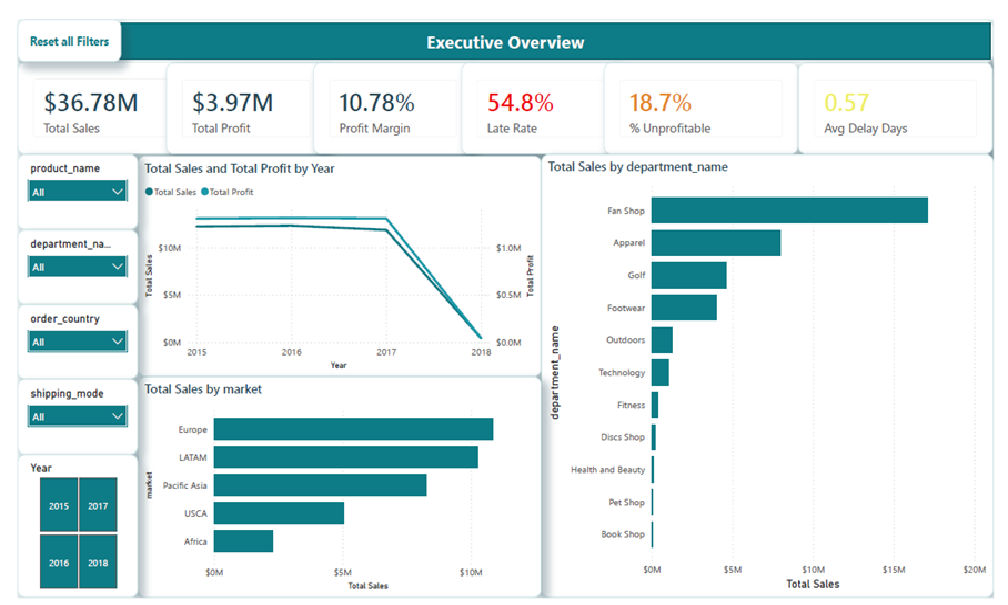

The page's visual inventory and layout, read from the dashboard file:
{"tool":"powerbi","page":{"name":"OverView","canvas":[1280,720],"ordinal":0},"visuals":[{"type":"shape","box":[0,0,1280,54],"z":0},{"type":"cardVisual","fields":{"Data":["fact_order_line.Total Sales","fact_order_line.Total Profit","fact_order_line.Total Orders"]},"box":[0,53.3,1278.3,115],"z":1000},{"type":"cardVisual","fields":{"Data":["fact_order_line.Total Profit"]},"box":[195.3,54,209.2,113.6],"z":2000},{"type":"cardVisual","fields":{"Data":["fact_order_line.Profit Margin"]},"box":[387.9,54,209.2,113.6],"z":3000},{"type":"cardVisual","fields":{"Data":["fact_order_line.Late Rate"]},"box":[581.8,54,209.2,113.6],"z":4000},{"type":"cardVisual","fields":{"Data":["fact_order_line.% Unprofitable"]},"box":[768.8,54,254.9,113.6],"z":5000},{"type":"cardVisual","fields":{"Data":["fact_order_line.Avg Delay Days"]},"box":[1023.7,54,254.9,113.6],"z":6000},{"type":"lineChart","fields":{"Y":["fact_order_line.Total Sales"],"Y2":["fact_order_line.Total Profit"],"Category":["dim_date.full_date.Variation.Date Hierarchy.Year","dim_date.full_date.Variation.Date Hierarchy.Quarter","dim_date.full_date.Variation.Date Hierarchy.Month","dim_date.full_date.Variation.Date Hierarchy.Day"]},"box":[158.3,170,528.3,275],"z":7000},{"type":"clusteredBarChart","fields":{"Y":["fact_order_line.Total Sales"],"Category":["dim_product.department_name"]},"box":[686.7,168.3,593.3,551.7],"z":8000},{"type":"barChart","fields":{"Category":["dim_geo.market"],"Y":["fact_order_line.Total Sales"]},"box":[158.3,445,528.3,275],"z":9000},{"type":"slicer","fields":{"Values":["dim_product.product_name"]},"box":[0,168.3,158.3,93.3],"z":10001},{"type":"slicer","fields":{"Values":["dim_product.department_name"]},"box":[0,261.7,158.3,93.3],"z":10002},{"type":"slicer","fields":{"Values":["dim_geo.order_country"]},"box":[0,355,158.3,93.3],"z":10003},{"type":"slicer","fields":{"Values":["dim_shipping_mode.shipping_mode"]},"box":[0,448.3,158.3,93.3],"z":10004},{"type":"slicer","fields":{"Values":["dim_date.full_date.Variation.Date Hierarchy.Year"]},"box":[0,541.7,158.3,178.3],"z":10005},{"type":"actionButton","box":[0,0,116.7,53.3],"z":10006}]}

Visuals, with their boxes on the page's 1280x720 design canvas (x1, y1, x2, y2). These are canvas units, not pixel positions in the 1008x605 screenshot, which may show the page scaled, cropped or inside an application window:
shape: 0,0,1280,54
cardVisual - fact_order_line.Total Sales x fact_order_line.Total Profit: 0,53,1278,168
cardVisual - fact_order_line.Total Profit: 195,54,404,168
cardVisual - fact_order_line.Profit Margin: 388,54,597,168
cardVisual - fact_order_line.Late Rate: 582,54,791,168
cardVisual - fact_order_line.% Unprofitable: 769,54,1024,168
cardVisual - fact_order_line.Avg Delay Days: 1024,54,1279,168
lineChart - fact_order_line.Total Sales x fact_order_line.Total Profit: 158,170,687,445
clusteredBarChart - fact_order_line.Total Sales x dim_product.department_name: 687,168,1280,720
barChart - dim_geo.market x fact_order_line.Total Sales: 158,445,687,720
slicer - dim_product.product_name: 0,168,158,262
slicer - dim_product.department_name: 0,262,158,355
slicer - dim_geo.order_country: 0,355,158,448
slicer - dim_shipping_mode.shipping_mode: 0,448,158,542
slicer - dim_date.full_date.Variation.Date Hierarchy.Year: 0,542,158,720
actionButton: 0,0,117,53
